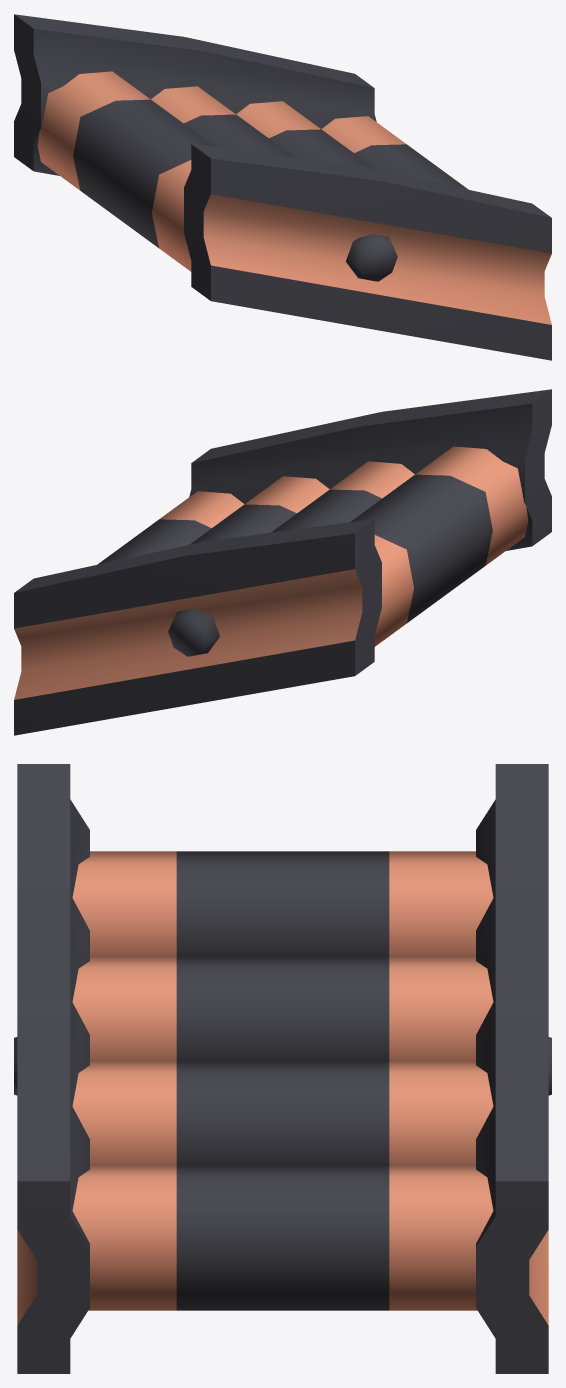
The model's file is conveyor-bars-stripe-high-slope.obj.
3 views of the same model, one above another, from view 1: azimuth 30°, elevation 25°; view 2: azimuth 150°, elevation 25°; view 3: azimuth 270°, elevation 25° (orthographic). The views are drawn at different scales.
Visible parts, largest first — view 1: conveyor-bars-stripe-high-slope; view 2: conveyor-bars-stripe-high-slope; view 3: conveyor-bars-stripe-high-slope.
Boxes of the visible parts, x1,y1,x2,y2 form: conveyor-bars-stripe-high-slope: (14,14,551,360); conveyor-bars-stripe-high-slope: (14,389,551,735); conveyor-bars-stripe-high-slope: (14,764,551,1373).
Bounding box in the file's own units: 1 × 0.8 × 1.01.
